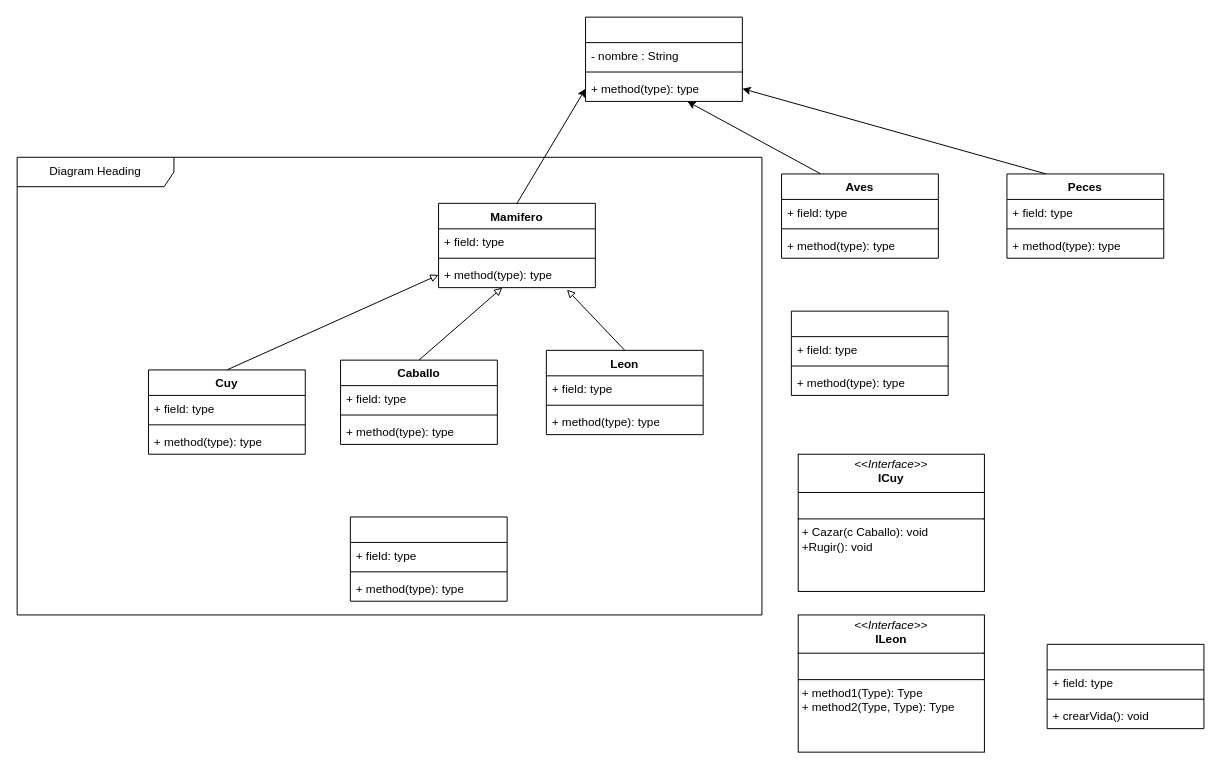
The diagram is 1221 pixels wide and 769 high, and some of its shapes have lost their labels. The box of each missing label's shape, as (x1, y1, x2, y2) in pixels:
Controlador: (1046, 643, 1204, 729)
CuyLeon: (349, 516, 507, 601)
Hierba: (790, 310, 948, 395)
Vertebrado: (585, 16, 742, 101)
